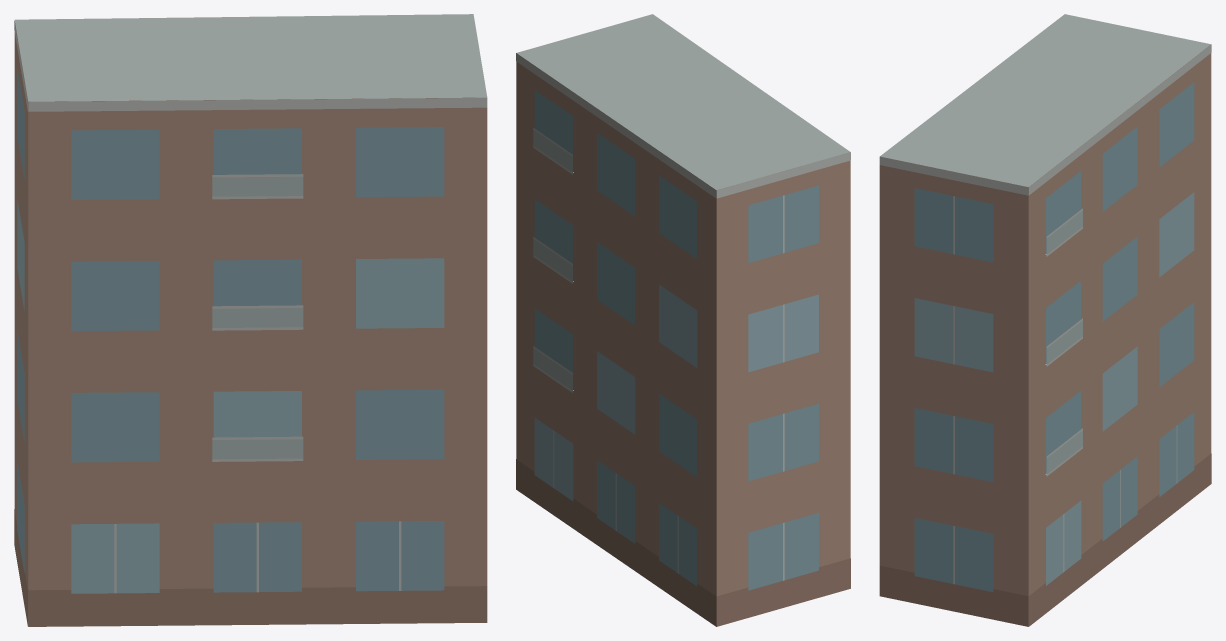
Rendered from survey-upis-32727879.glb.
3 renders of one model, left to right at view 1: azimuth 30°, elevation 25°; view 2: azimuth 150°, elevation 25°; view 3: azimuth 270°, elevation 25°, orthographic. The views are drawn at different scales.
Visible parts, largest first — view 1: survey-upis-32727879.tmp; view 2: survey-upis-32727879.tmp; view 3: survey-upis-32727879.tmp.
Boxes of the visible parts, left/top/right/bottom form: survey-upis-32727879.tmp: left=14, top=14, right=487, bottom=626; survey-upis-32727879.tmp: left=516, top=14, right=850, bottom=626; survey-upis-32727879.tmp: left=879, top=14, right=1211, bottom=626.
Bounding box in the file's own units: 10.7 × 12.65 × 8.66.
